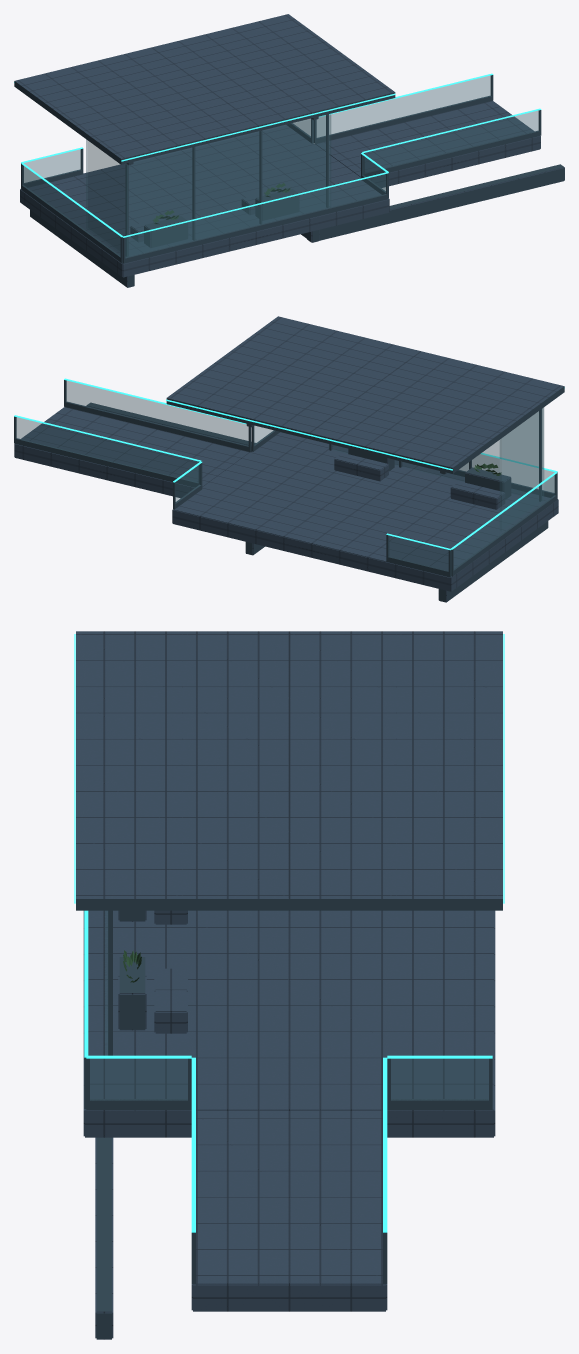
Rendered from loggia-portal-replacement-1.glb.
3 views of the same model, one above another, from view 1: azimuth 30°, elevation 25°; view 2: azimuth 150°, elevation 25°; view 3: azimuth 270°, elevation 25° (orthographic). The views are drawn at different scales.
Parts seen in each view (by area): view 1: loggia-portal-replacement-1; view 2: loggia-portal-replacement-1; view 3: loggia-portal-replacement-1.
Boxes of the visible parts, x1,y1,x2,y2 form: loggia-portal-replacement-1: (14, 14, 564, 287); loggia-portal-replacement-1: (14, 316, 564, 602); loggia-portal-replacement-1: (74, 631, 504, 1339).
Size of the model in its own units: 20.15 by 5.8 by 8.37.
Materials: 7 (1 with a texture image).
